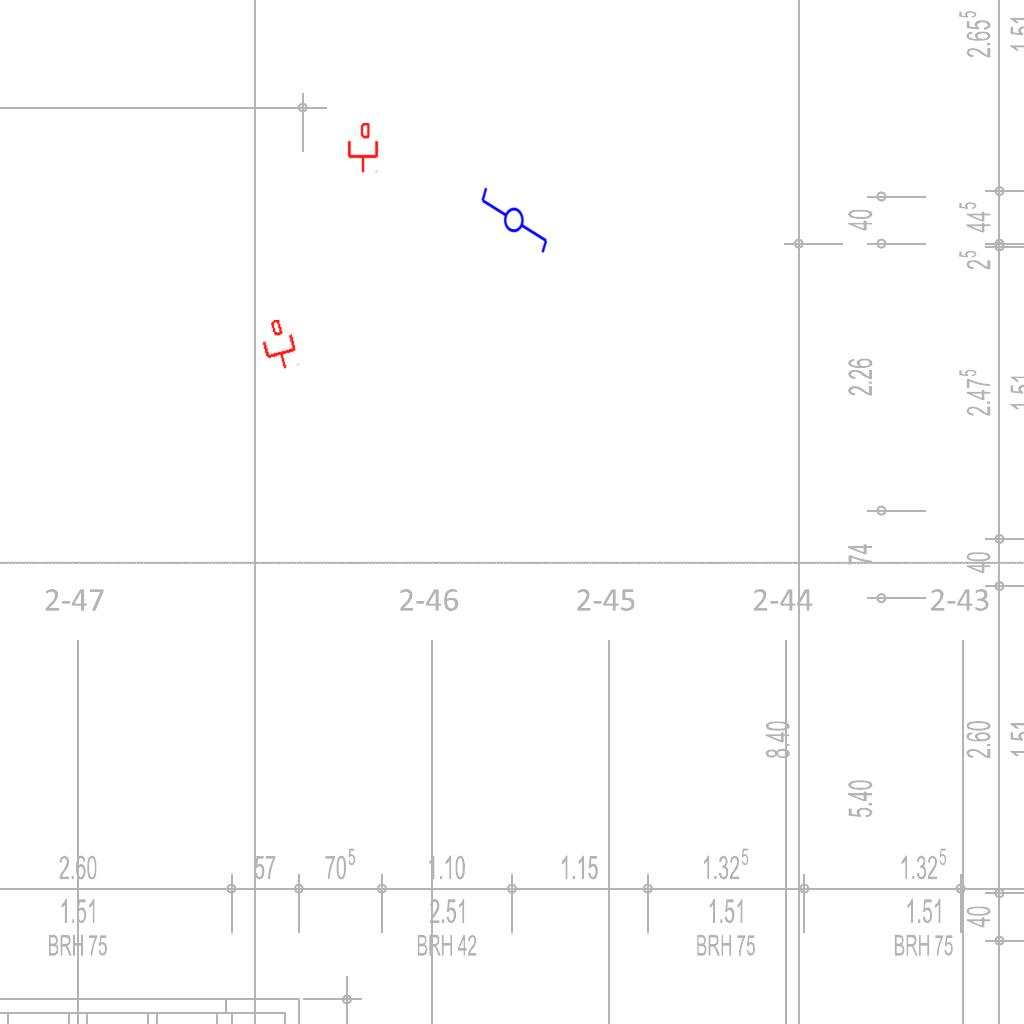Datenanschluss_einfach: (256, 316, 302, 374), (346, 123, 380, 173)
Wechselschalter: (479, 177, 551, 255)
